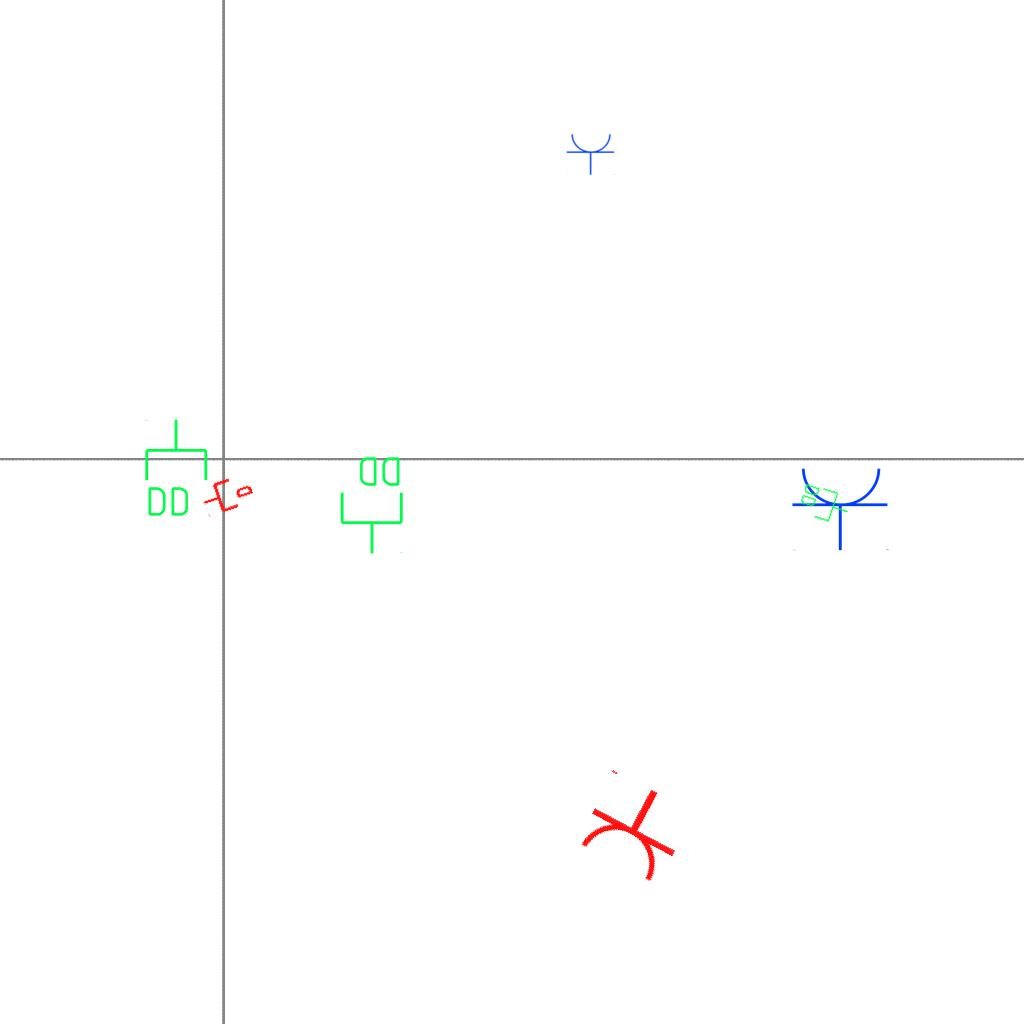Datenanschluss_einfach: (197, 470, 257, 520)
Datenanschluss_zweifach: (141, 417, 210, 520), (338, 453, 407, 556), (794, 479, 855, 529)
Schukosteckdose_einfach: (568, 765, 699, 889), (791, 464, 891, 551), (566, 132, 616, 175)
